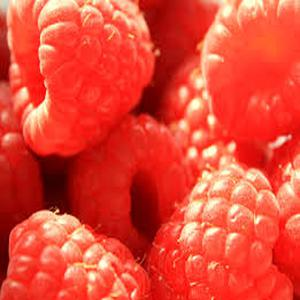raspb: (5, 1, 292, 298)
